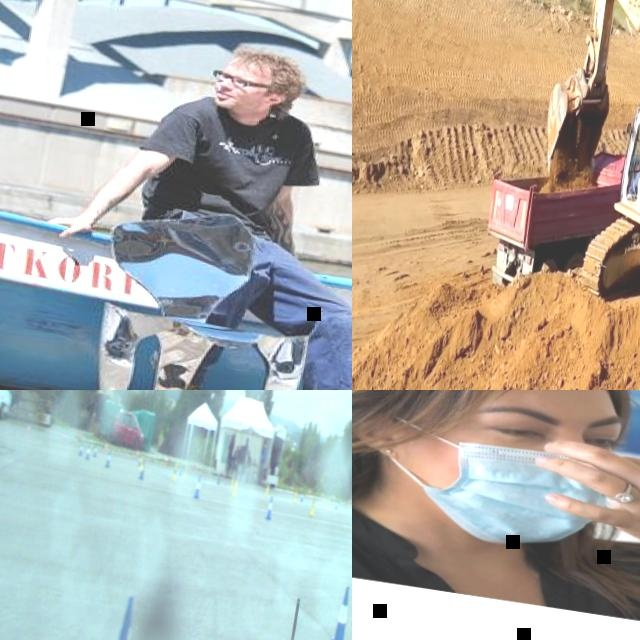Mask: (369, 415, 619, 562)
NO-Hardhat: (227, 47, 305, 87)
NO-Mask: (210, 84, 270, 115)
NO-Safety Vest: (352, 491, 640, 631), (152, 89, 312, 232)
Person: (20, 22, 352, 390), (352, 390, 640, 640), (629, 157, 640, 199)
Safety Cone: (97, 593, 144, 640), (328, 584, 352, 640), (264, 495, 276, 521), (193, 475, 203, 499), (104, 446, 114, 469), (137, 460, 147, 481), (171, 460, 180, 482), (85, 441, 93, 461), (78, 439, 86, 458), (231, 480, 239, 498), (310, 498, 317, 518), (138, 455, 144, 470), (93, 443, 99, 457), (178, 463, 184, 477), (264, 484, 270, 498), (25, 421, 31, 434), (61, 430, 67, 443), (183, 465, 189, 478), (217, 473, 223, 486), (103, 440, 109, 452), (135, 448, 141, 459), (163, 456, 169, 467), (293, 492, 299, 503), (299, 493, 305, 504), (325, 499, 330, 511), (230, 477, 234, 490), (138, 455, 142, 467), (334, 499, 338, 511), (290, 484, 294, 493), (348, 498, 352, 506), (320, 491, 324, 499), (308, 490, 312, 497)
machinery: (519, 0, 640, 336), (477, 136, 631, 301)
